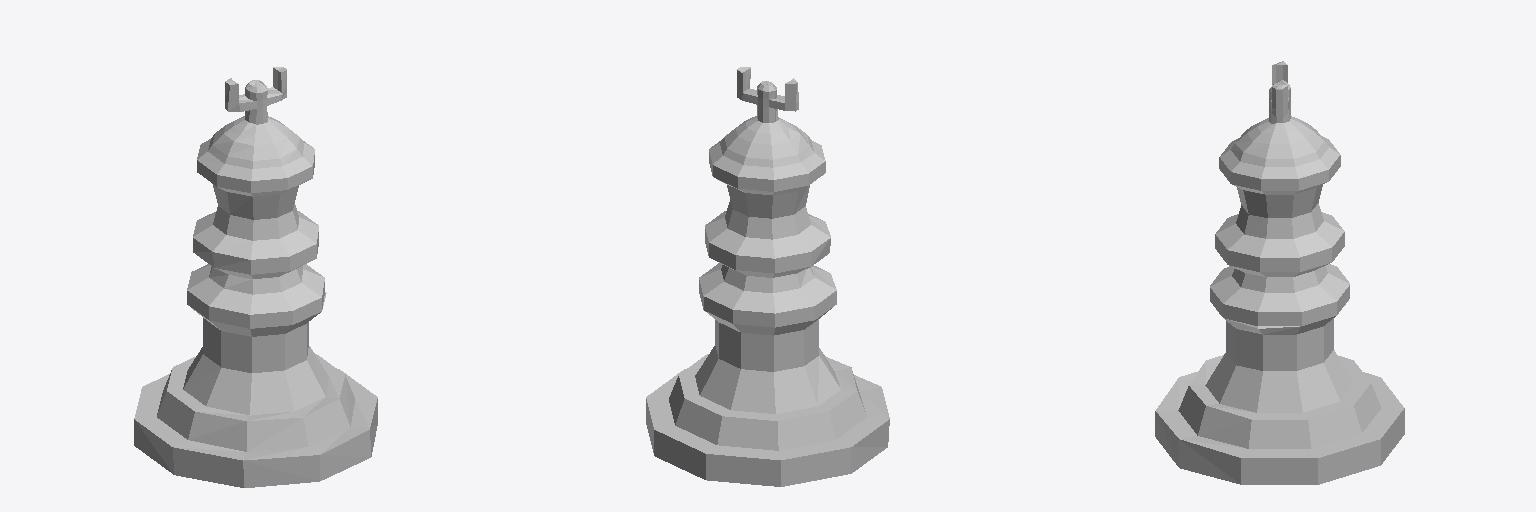
File: king.obj
3 views of the same model, side by side, from view 1: azimuth 30°, elevation 25°; view 2: azimuth 150°, elevation 25°; view 3: azimuth 270°, elevation 25° (orthographic).
Bounding box in the file's own units: 1.46 × 2.45 × 1.53.